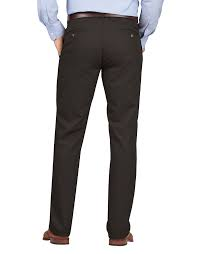F_belt: (65, 8, 140, 26)
F_dress pants: (49, 24, 144, 239)
